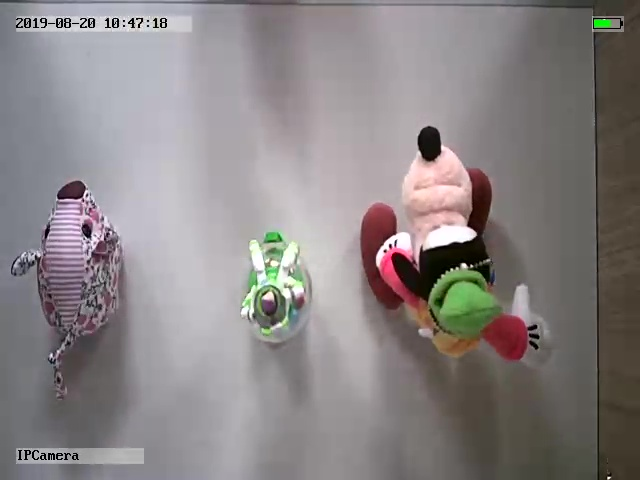buzz: (234, 229, 318, 349)
goofy: (358, 121, 553, 378)
pig: (11, 175, 126, 402)
